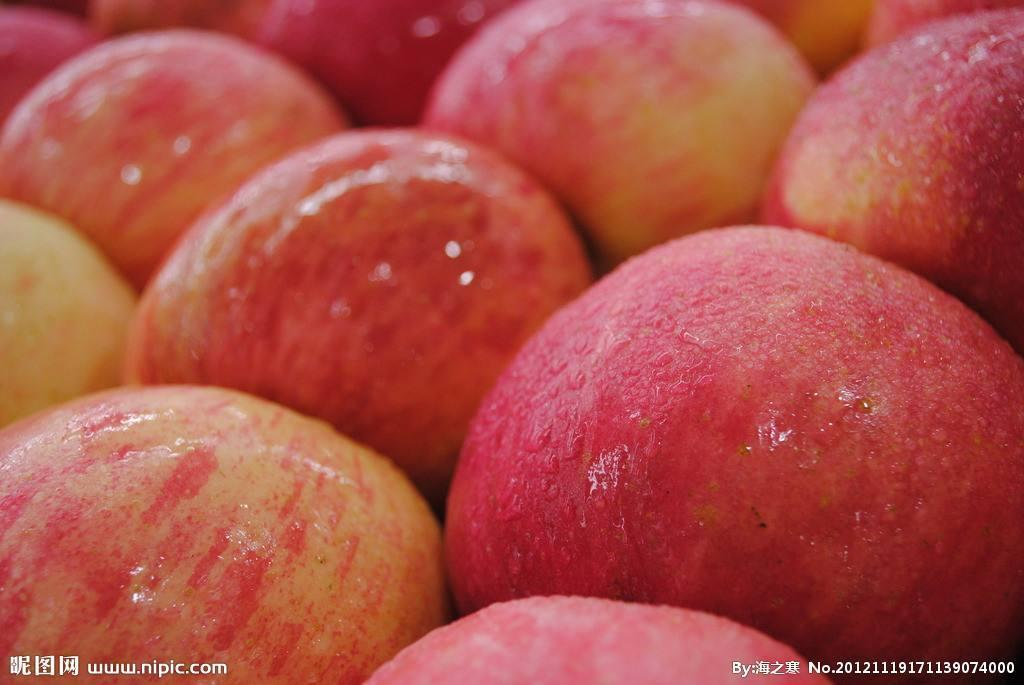apple: (453, 234, 1024, 673), (121, 126, 598, 498), (1, 382, 444, 679), (416, 4, 823, 278), (758, 10, 1024, 336)
